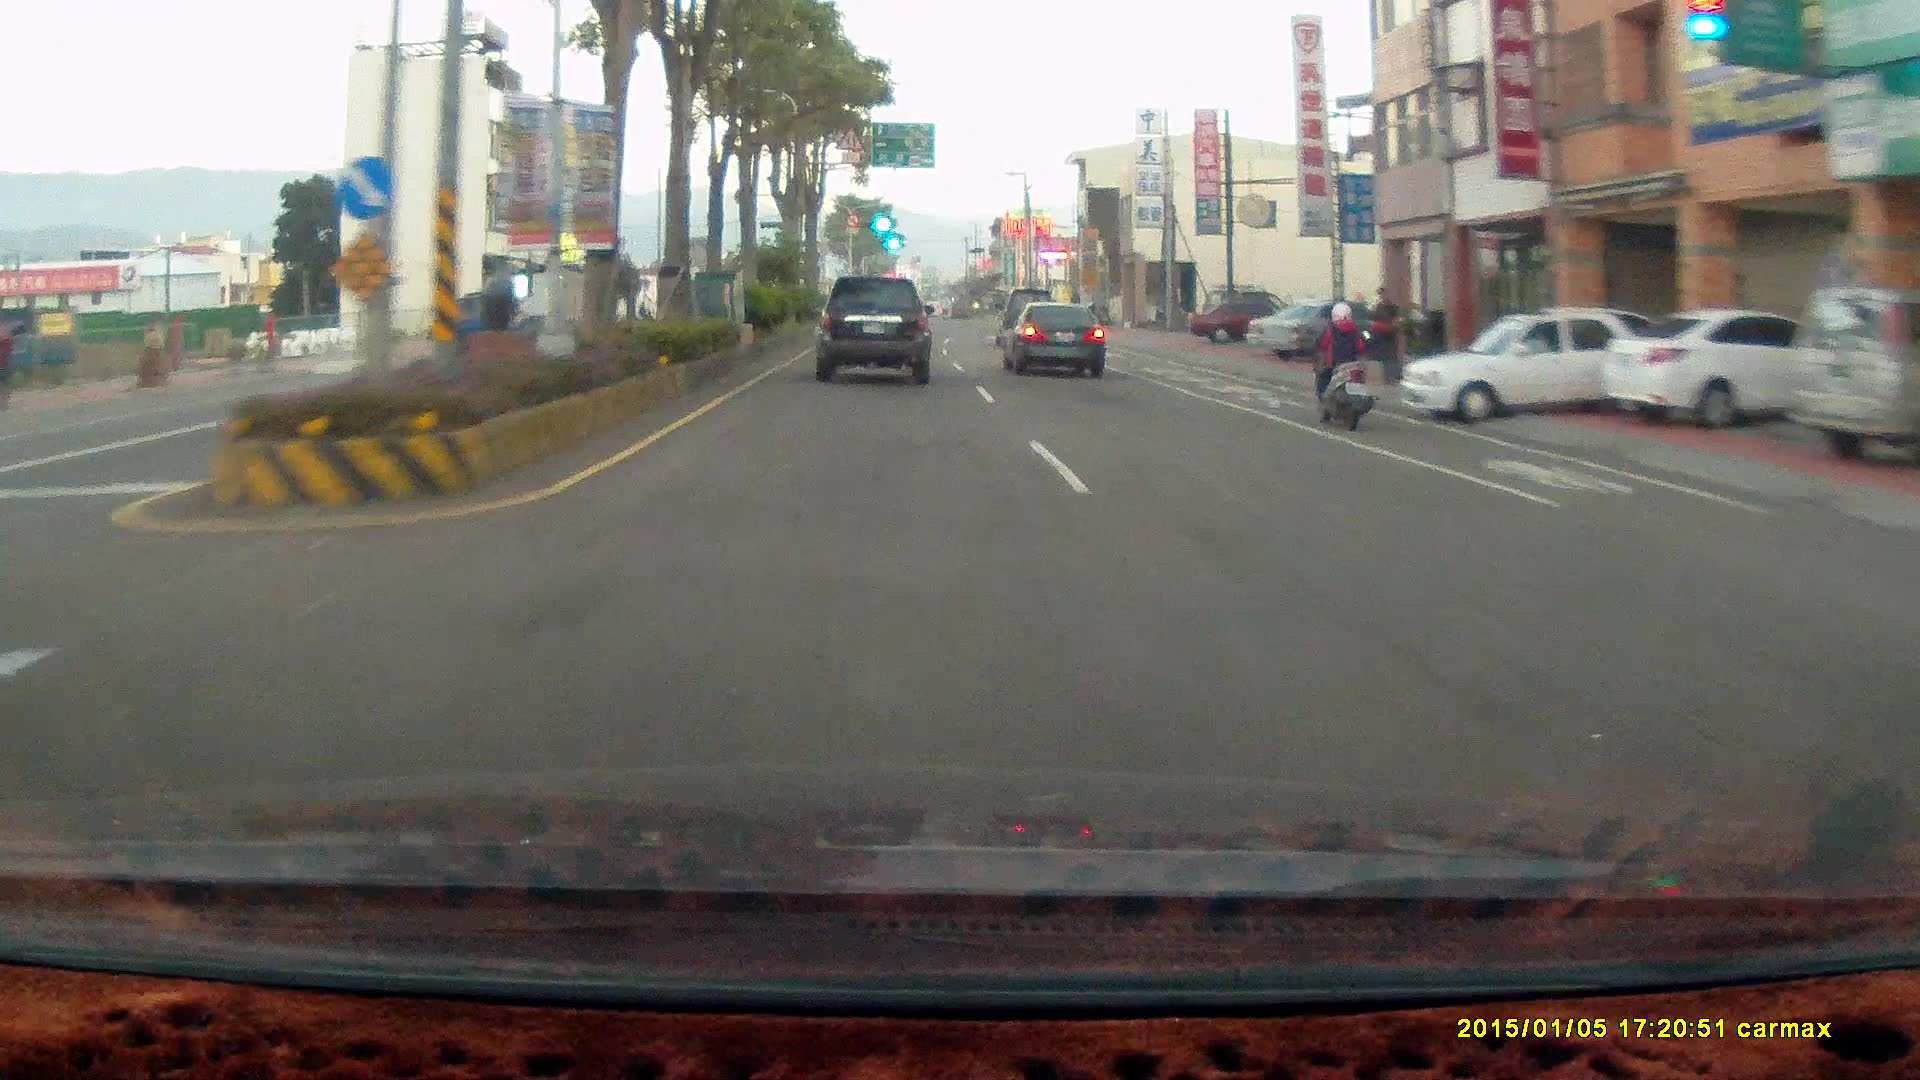pedestrian: (1363, 282, 1404, 383)
rider: (1297, 286, 1389, 440), (1307, 302, 1373, 432)
vehicle: (1600, 307, 1886, 433), (1398, 307, 1690, 417), (1400, 309, 1648, 421), (1596, 311, 1814, 432), (1782, 286, 1920, 469), (1781, 285, 1919, 467), (809, 274, 940, 389), (814, 278, 935, 388), (1246, 296, 1397, 360), (1246, 299, 1396, 362), (1000, 300, 1104, 379), (1007, 301, 1108, 378), (1188, 301, 1303, 344), (994, 286, 1056, 343)
